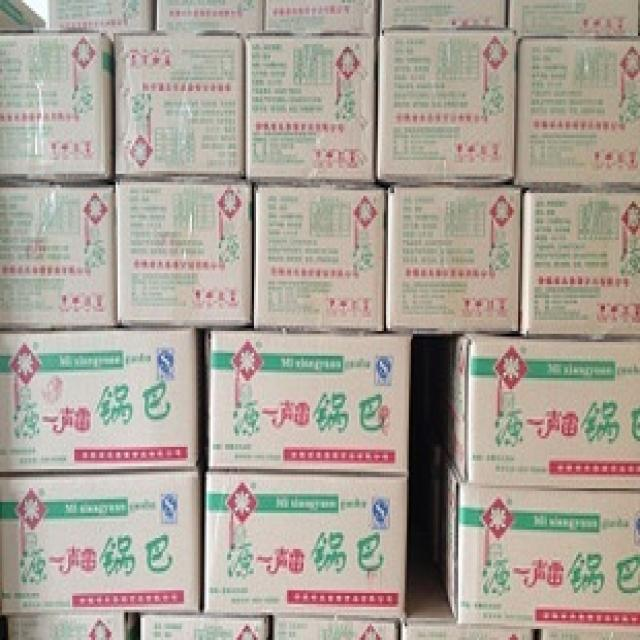box: (438, 441, 640, 629), (202, 469, 413, 618), (204, 331, 417, 477), (440, 334, 640, 488), (0, 328, 206, 477), (0, 469, 204, 615), (376, 28, 520, 185), (114, 179, 252, 328), (384, 185, 522, 334), (244, 33, 378, 185), (252, 179, 386, 331), (111, 30, 244, 179), (514, 39, 640, 188), (518, 185, 640, 337), (0, 30, 114, 182), (0, 182, 118, 328), (398, 538, 535, 640), (506, 0, 640, 39), (378, 0, 506, 33), (47, 0, 155, 39), (264, 0, 378, 36), (155, 0, 264, 33), (138, 615, 273, 640), (4, 615, 138, 640), (270, 615, 398, 640), (535, 623, 640, 640)
